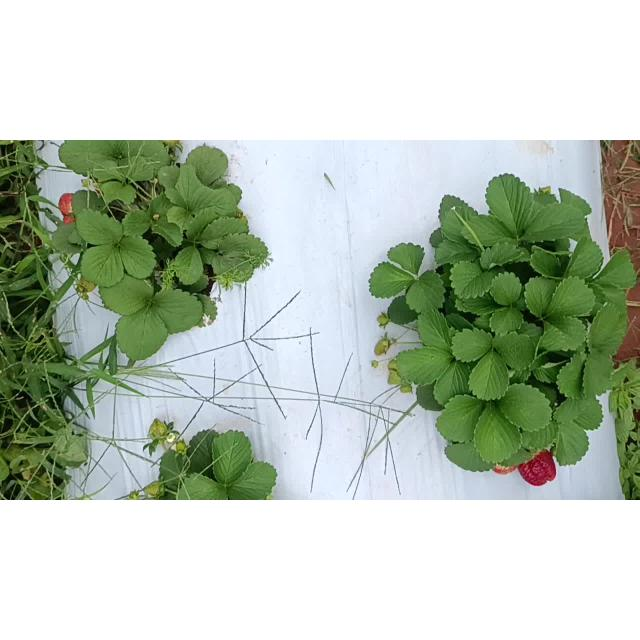maduro: (517, 450, 557, 486), (59, 192, 76, 215)
no-maduro: (146, 418, 168, 437), (144, 481, 164, 499), (373, 338, 389, 356), (78, 277, 96, 293)
